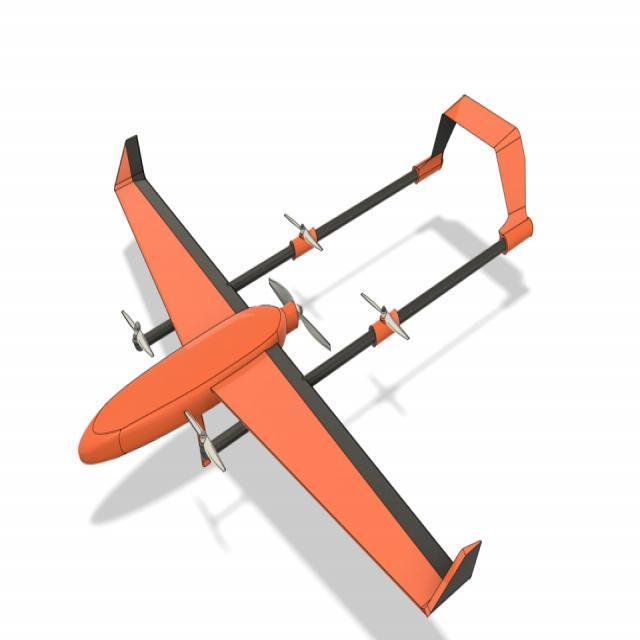UAV: (77, 81, 544, 588)
